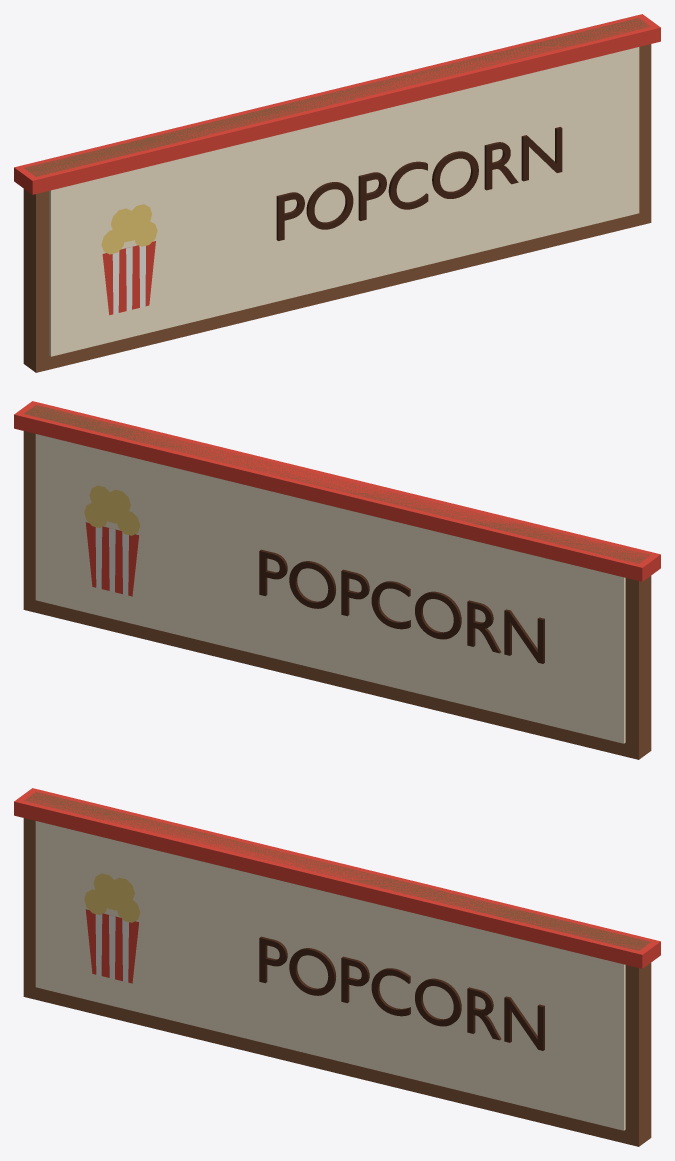
File: kiosk-sign-popcorn.glb
3 views of the same model, one above another, from view 1: azimuth 30°, elevation 25°; view 2: azimuth 150°, elevation 25°; view 3: azimuth 330°, elevation 25° (orthographic).
Visible parts, largest first — view 1: kiosk-sign-popcorn; view 2: kiosk-sign-popcorn; view 3: kiosk-sign-popcorn.
Part boxes in pixels (box(x1,y1,x2,y2)): kiosk-sign-popcorn: box(14, 14, 660, 372); kiosk-sign-popcorn: box(14, 401, 660, 759); kiosk-sign-popcorn: box(14, 788, 660, 1146).
Size of the model in its own units: 4.7 by 1.4 by 0.246.
